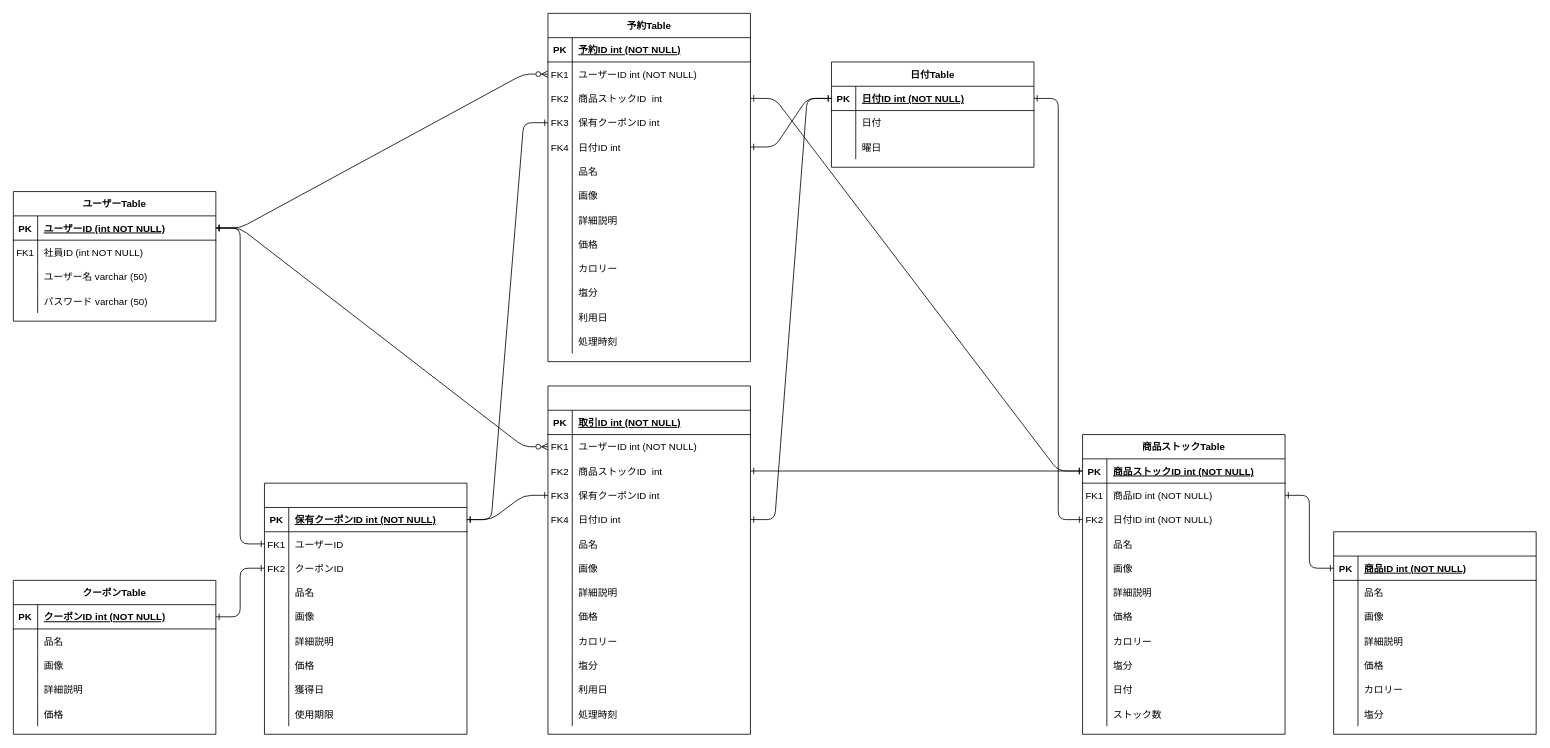
Some shapes in this 1550 by 748 pixel diagram are drawn without their labels. The box of each missing label's shape, as (x1, y1, x2, y2) in pixels:
保有クーポンTable: (264, 482, 467, 734)
取引Table: (547, 385, 750, 734)
商品Table: (1333, 531, 1536, 734)
